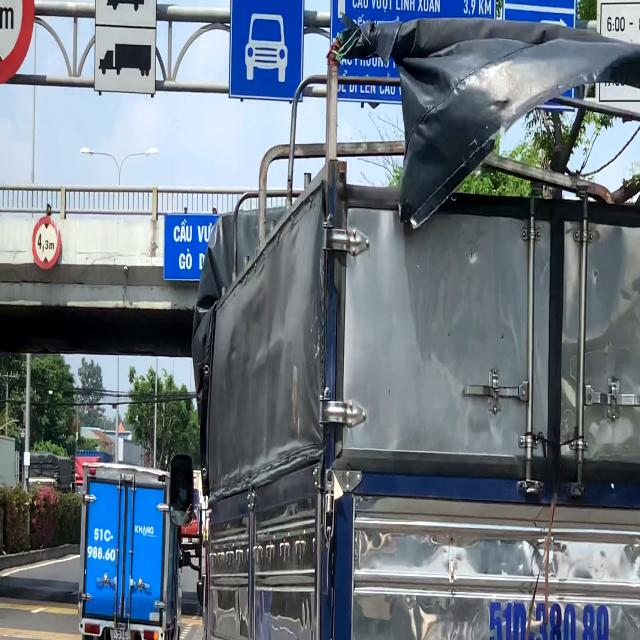P.117: (28, 213, 68, 270)
